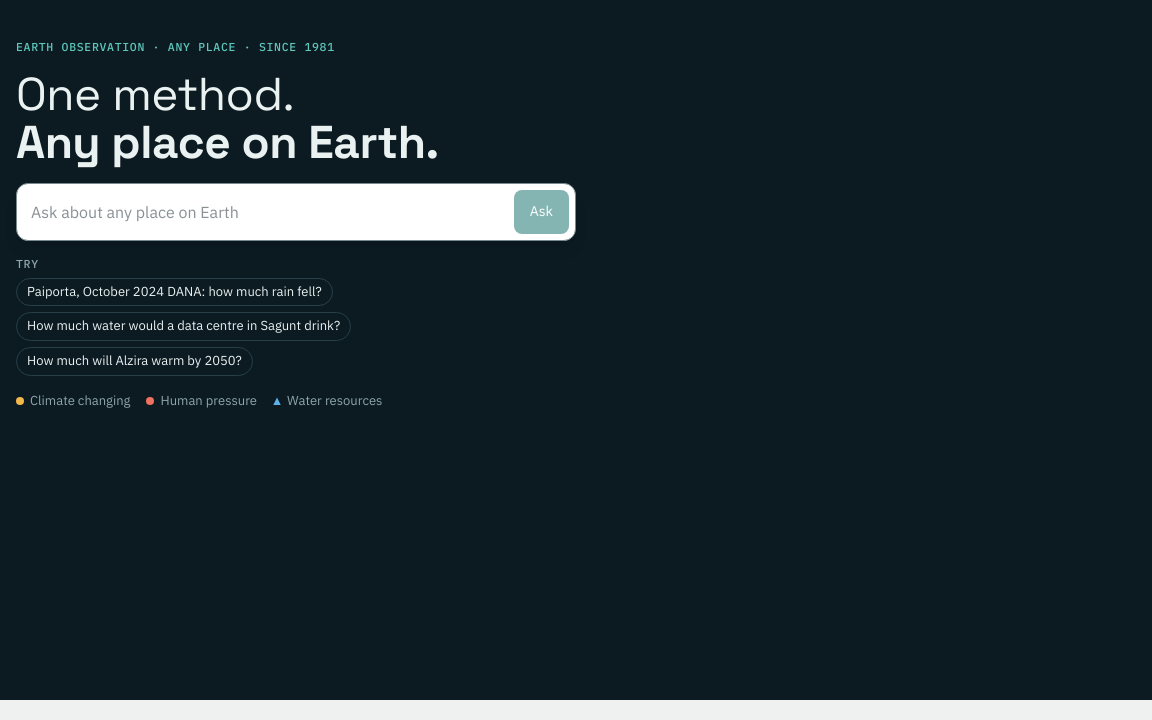
Scenario: a question about the place stands out, takes the focus and offers another place
The width and height of the screenshot is (1152, 720).
Type "What happens with the burnt refineries in the gulf?" into the search field named "Your question" at (264, 212), box left=23, top=190, right=506, bottom=234
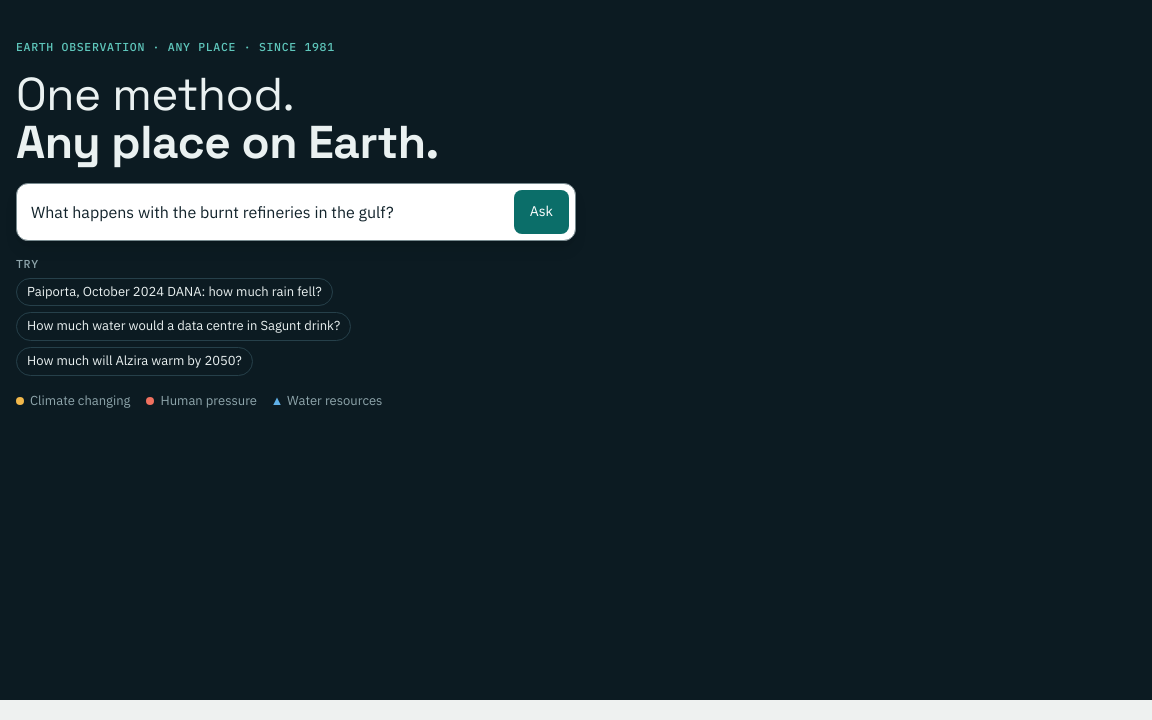
Click the button "Ask" at (541, 212), box left=514, top=190, right=569, bottom=234
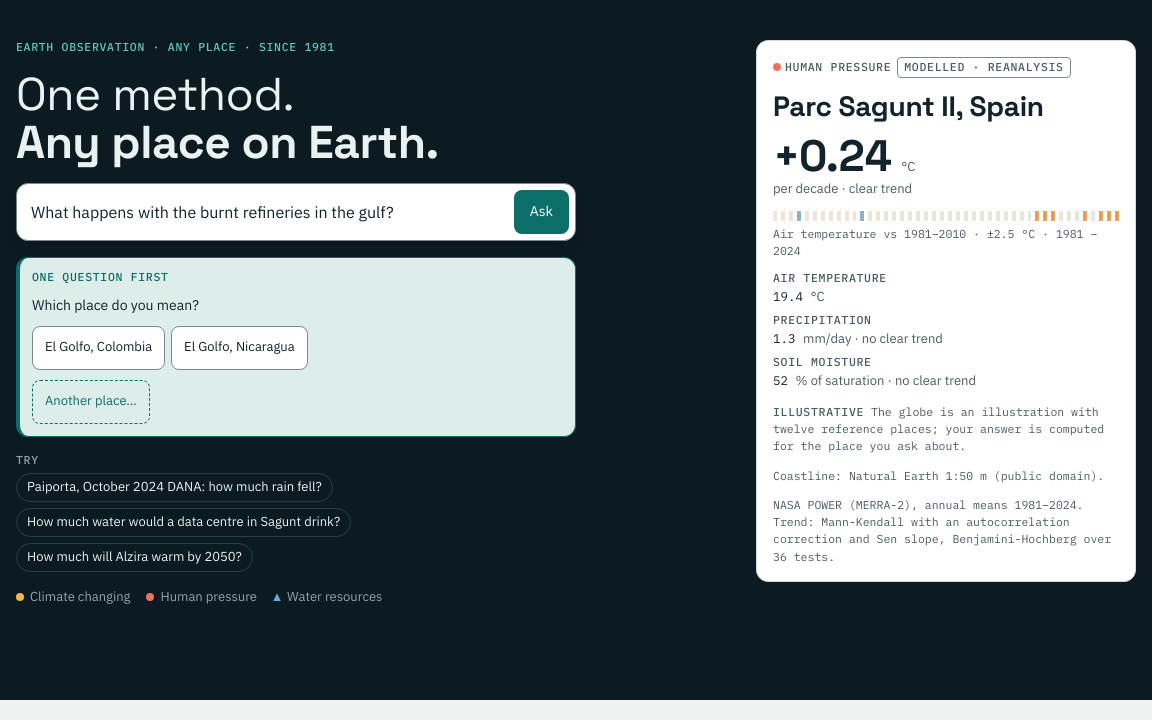
Expected: the button "El Golfo, Colombia" is shown, left=32, top=326, right=165, bottom=370
Expected: the button "Another place…" is shown, left=32, top=380, right=150, bottom=424
